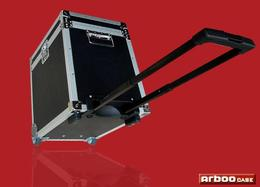luggage: (29, 10, 257, 147)
